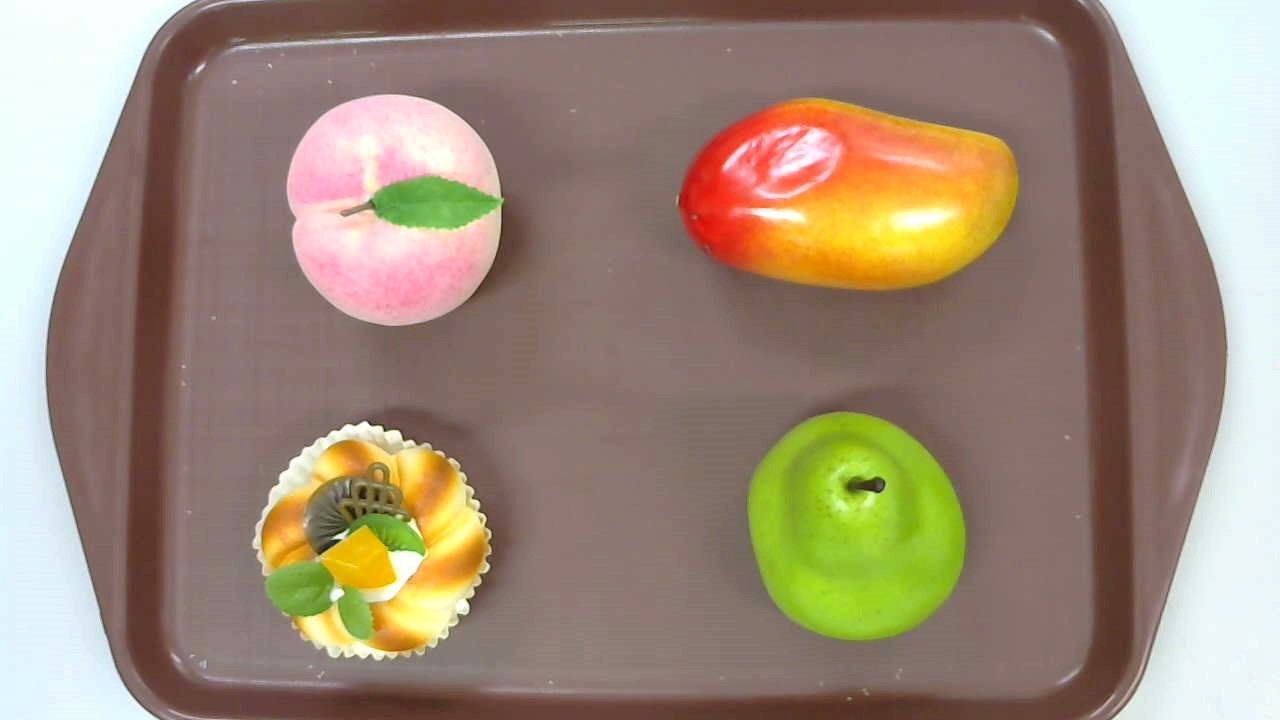fruit tart: (251, 420, 492, 663)
green pear: (748, 410, 966, 640)
peach: (285, 93, 505, 328)
red mango: (679, 97, 1019, 291)
